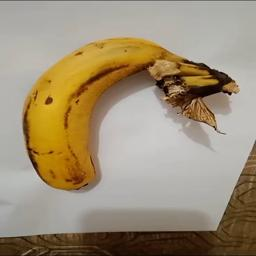Banana Semifresh: (22, 33, 239, 195)
